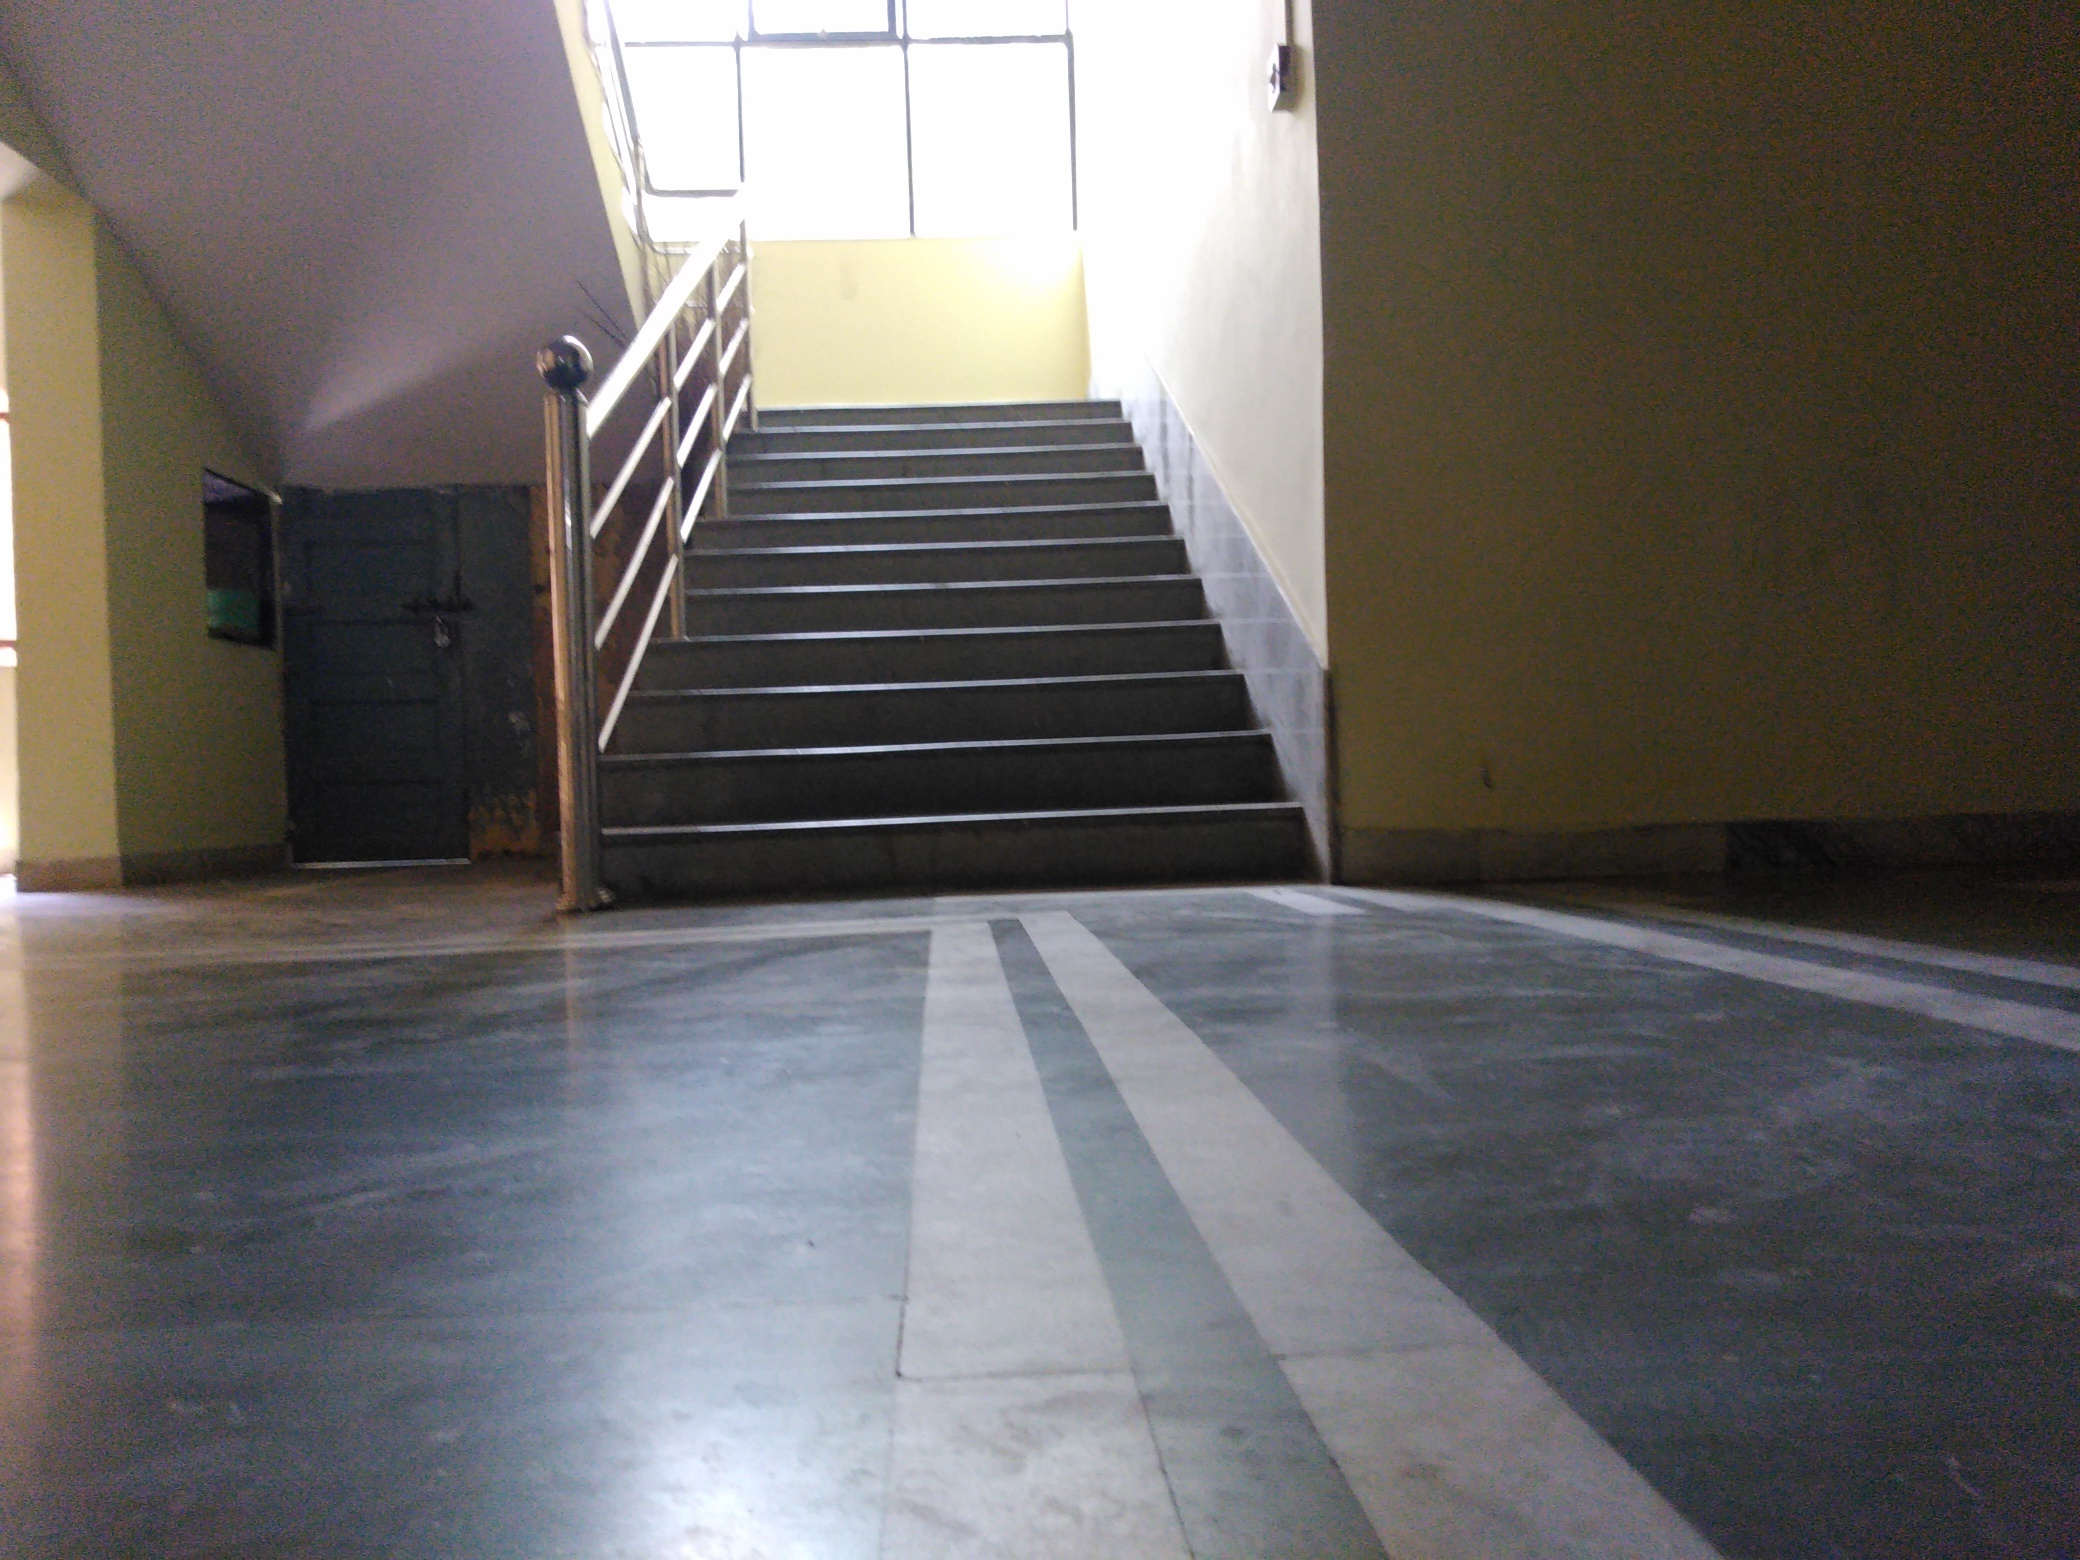stairs_up: (639, 398, 1314, 891)
